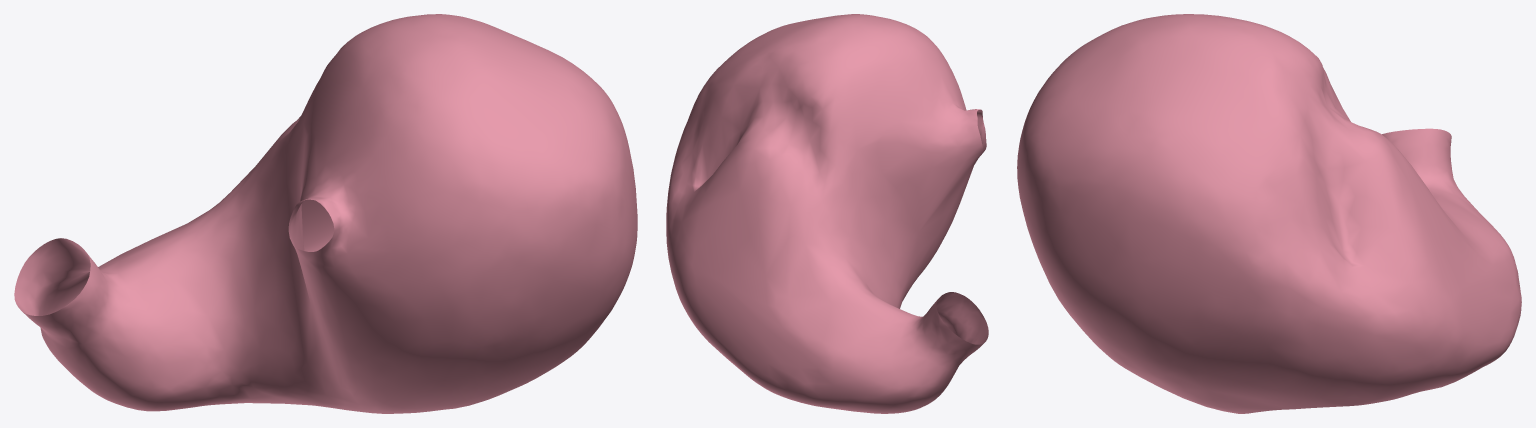
The picture shows the model from 3 angles, left to right: view 1: azimuth 30°, elevation 25°; view 2: azimuth 150°, elevation 25°; view 3: azimuth 270°, elevation 25°; orthographic projection. The views are drawn at different scales.
Visible parts, largest first — view 1: 胃; view 2: 胃; view 3: 胃.
Boxes of the visible parts, bbox=[...] form: 胃: bbox=[14, 14, 637, 413]; 胃: bbox=[666, 14, 988, 413]; 胃: bbox=[1017, 14, 1521, 413].
Bounding box in the file's own units: 0.1977 × 0.1552 × 0.1849.
